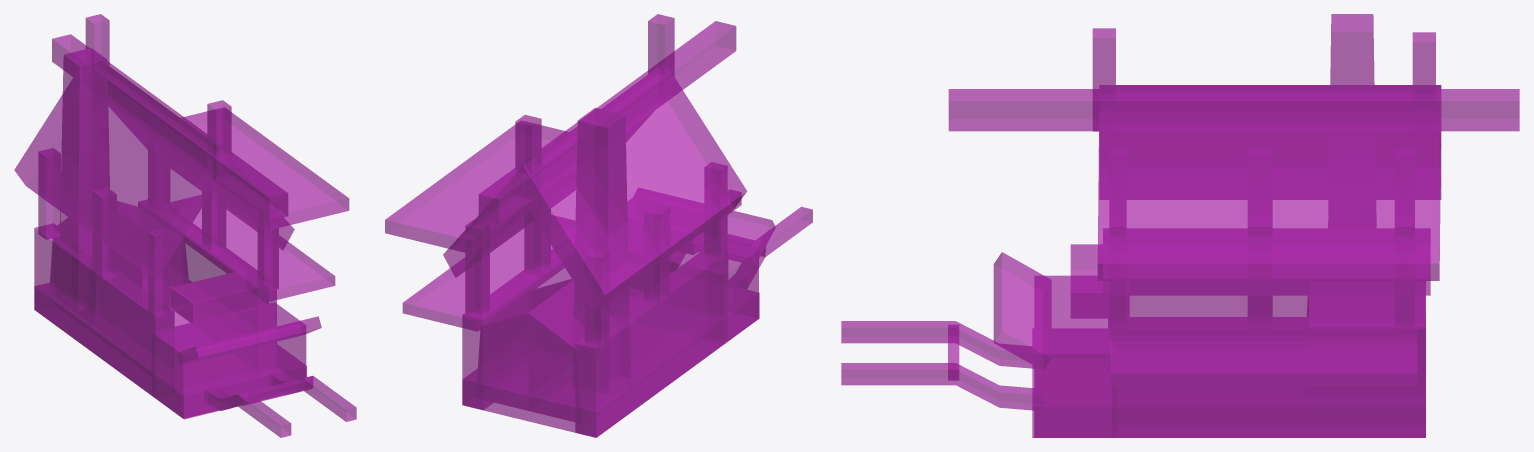
The model's file is SM_Veh_Cart_02_Collision.fbx.
3 views of the same model, side by side, from view 1: azimuth 30°, elevation 25°; view 2: azimuth 150°, elevation 25°; view 3: azimuth 270°, elevation 25° (orthographic). The views are drawn at different scales.
Visible parts, largest first — view 1: SM_Veh_Cart_02_Collision; view 2: SM_Veh_Cart_02_Collision; view 3: SM_Veh_Cart_02_Collision.
Part boxes in pixels (x1,y1,x2,y2): SM_Veh_Cart_02_Collision: [14, 14, 356, 437]; SM_Veh_Cart_02_Collision: [385, 14, 812, 437]; SM_Veh_Cart_02_Collision: [841, 14, 1519, 437].
Size of the model in its own units: 272 by 351 by 590.
